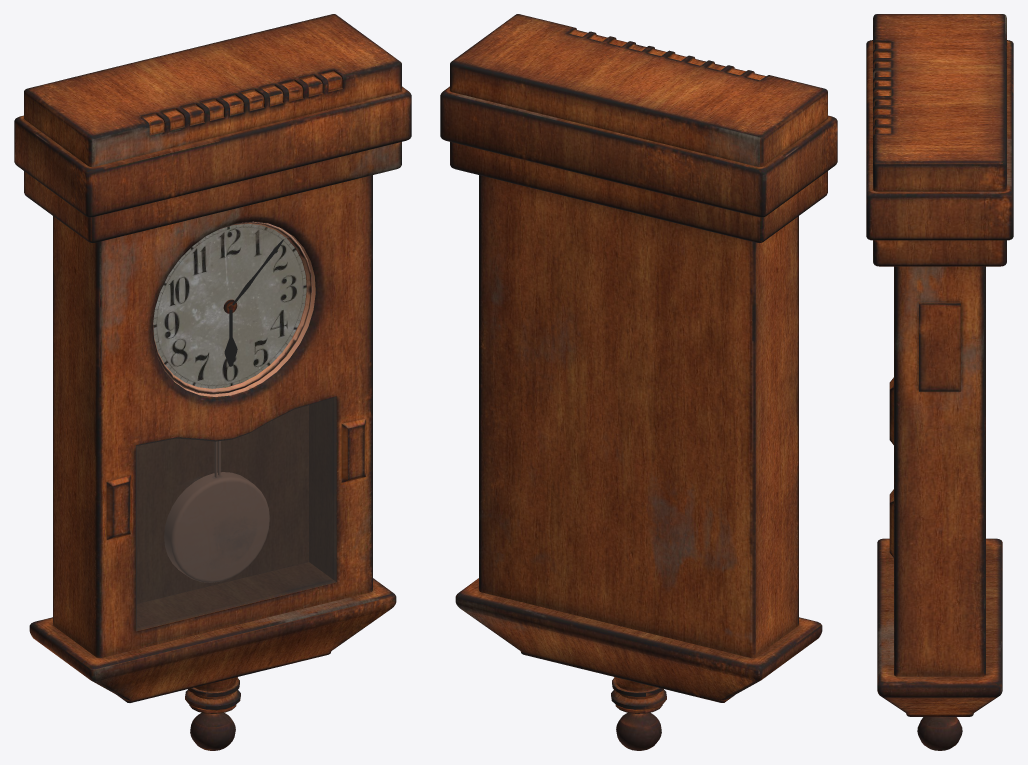
File: vintage_wall_clock.glb
3 views of the same model, side by side, from view 1: azimuth 30°, elevation 25°; view 2: azimuth 150°, elevation 25°; view 3: azimuth 270°, elevation 25° (orthographic).
Parts seen in each view (by area): view 1: defaultMaterial (×3); view 2: defaultMaterial; view 3: defaultMaterial.
Part boxes in pixels (box(x1,y1,x2,y2)): defaultMaterial (×3): box(14, 14, 411, 750); defaultMaterial: box(440, 14, 837, 750); defaultMaterial: box(866, 14, 1013, 750).
Size of the model in its own units: 55.35 by 110 by 22.12.
3 materials, 2 textured.
